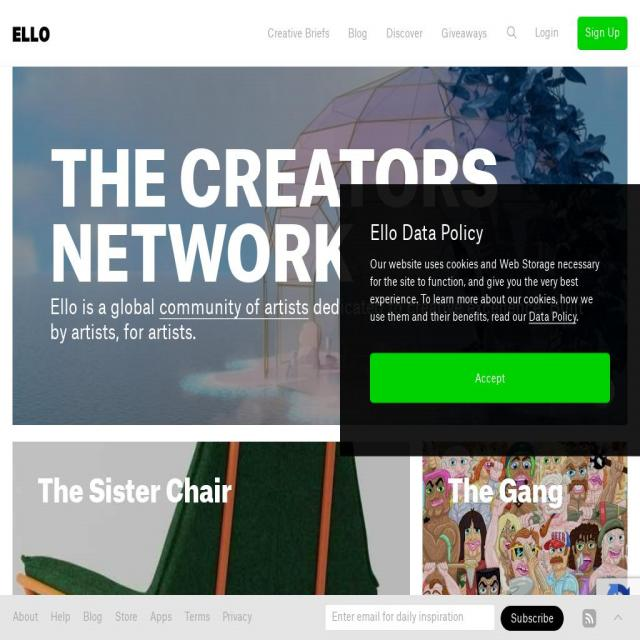field: (318, 603, 565, 632)
follow-options: (581, 604, 627, 634)
login-option: (533, 21, 562, 44)
navigation-links: (8, 604, 266, 634), (263, 19, 490, 46)
search: (502, 20, 520, 45)
sign-up-option: (577, 16, 628, 50)
